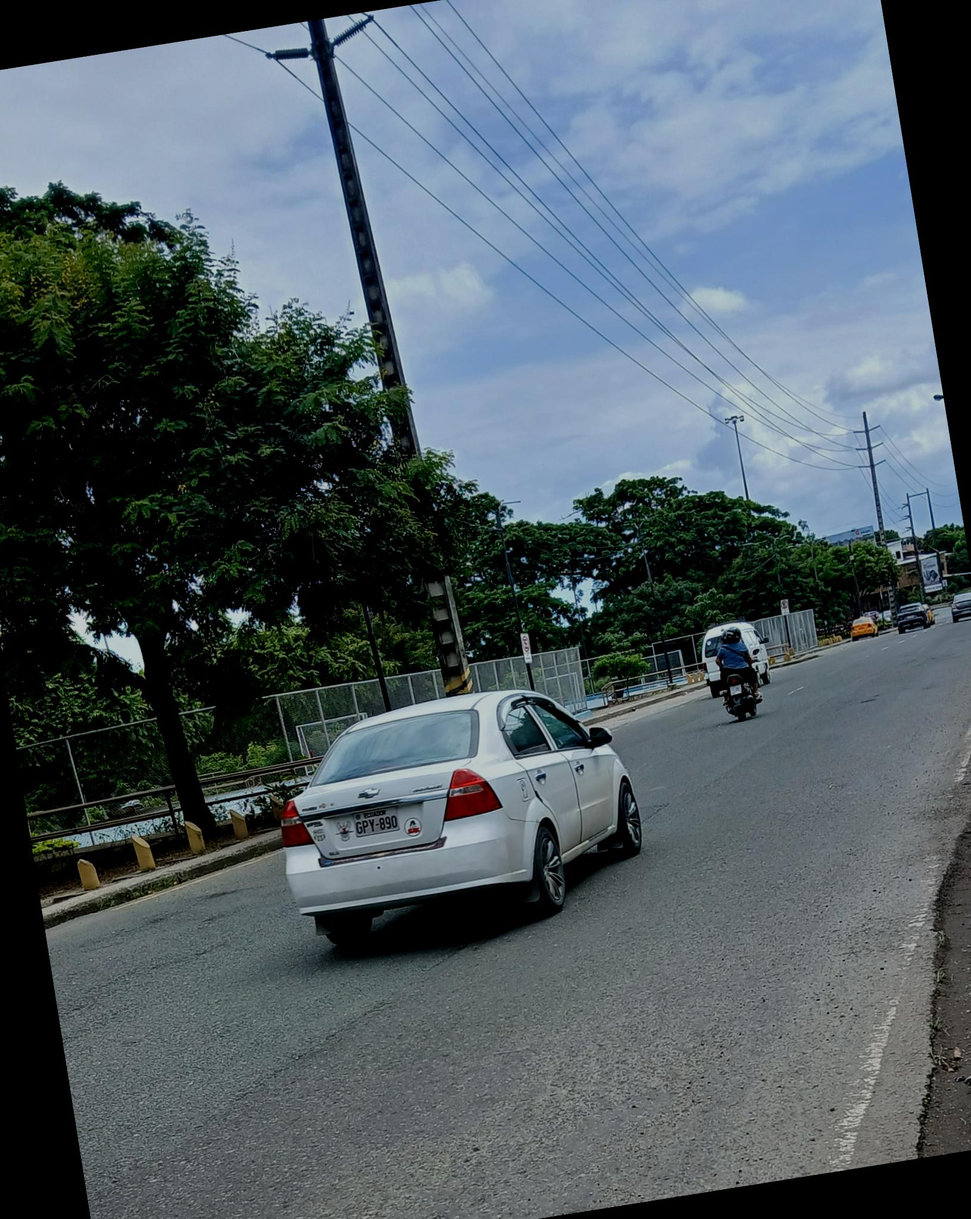license_plate: (351, 810, 401, 837)
